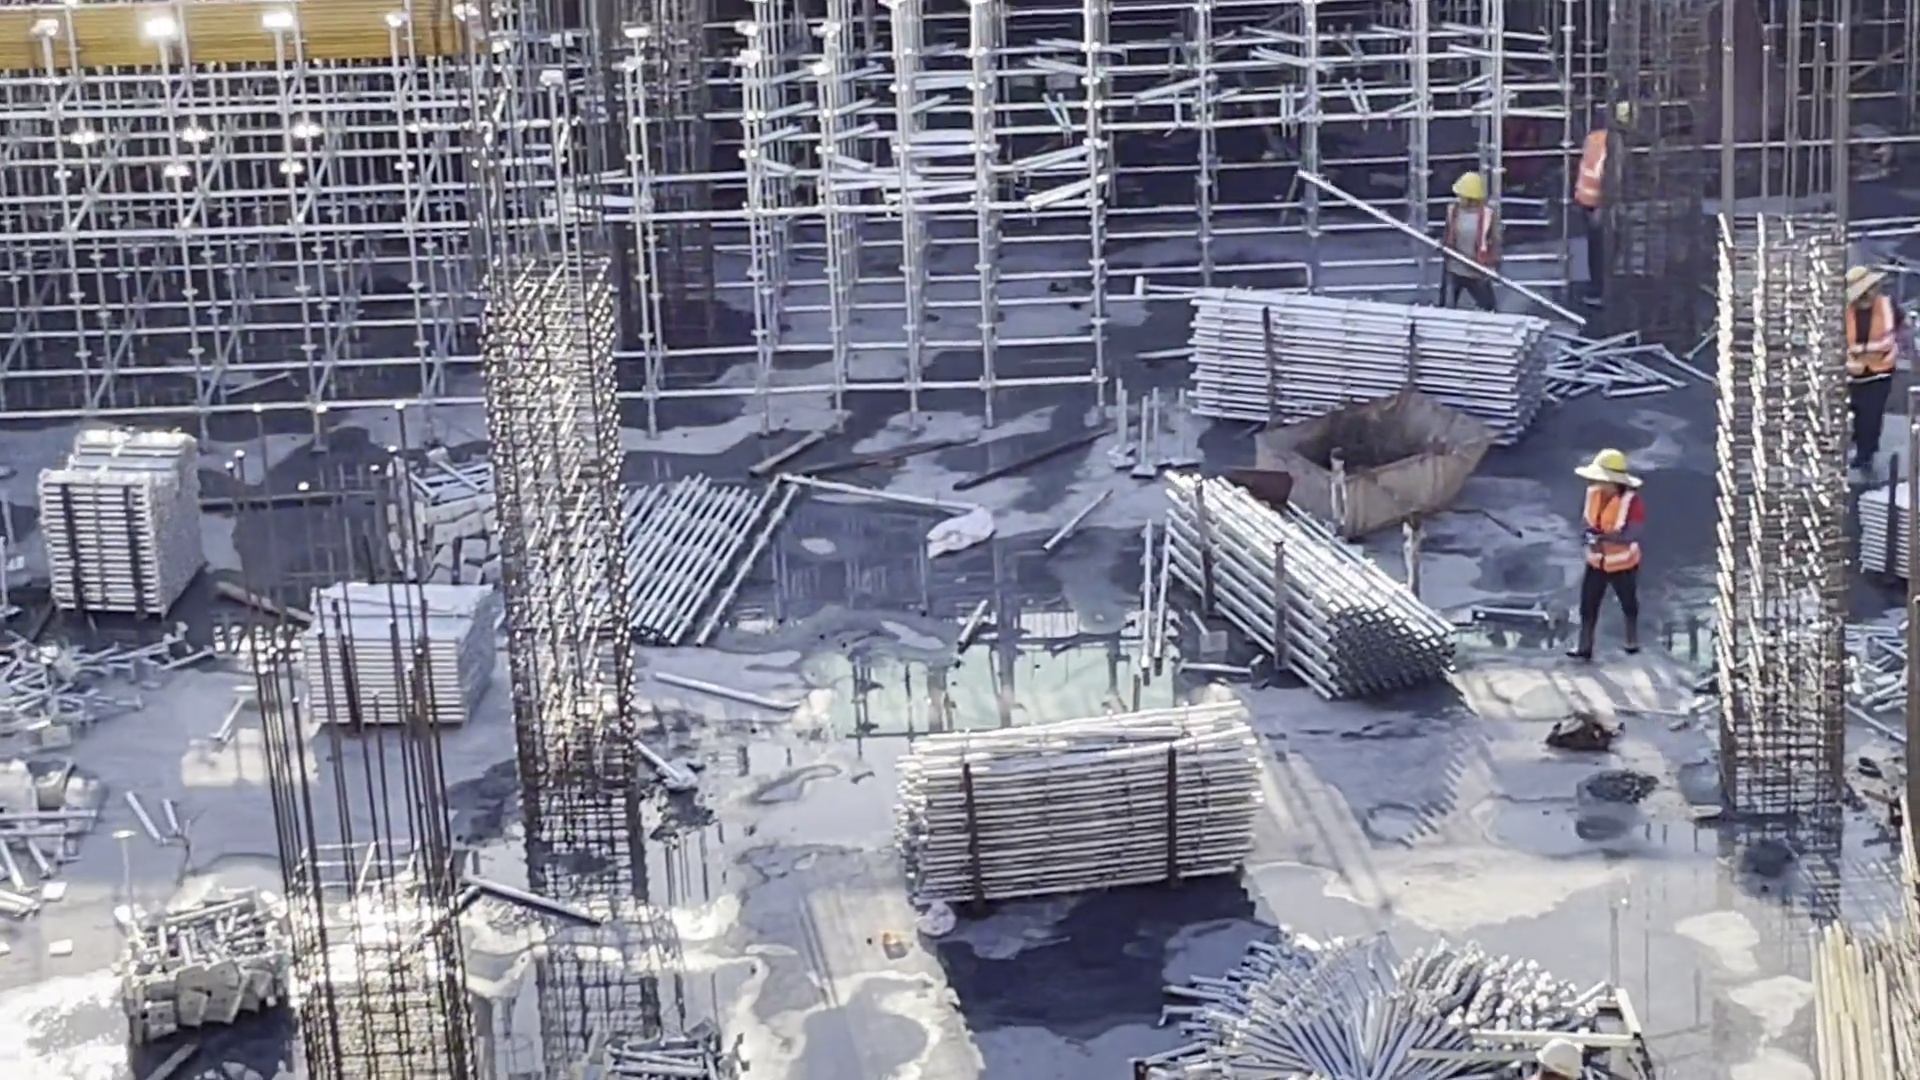helmet: (1578, 453, 1640, 484), (1535, 1042, 1580, 1080), (1847, 260, 1889, 295), (1454, 172, 1484, 200), (1616, 106, 1642, 130)
hopper: (1269, 404, 1479, 526)
person: (1836, 260, 1915, 476), (1573, 446, 1649, 669), (1578, 94, 1645, 308), (1430, 169, 1517, 317)
scaffold: (1142, 935, 1594, 1080), (905, 735, 1257, 896), (1201, 279, 1541, 446), (1196, 483, 1445, 700), (43, 428, 206, 611), (580, 486, 760, 629), (310, 592, 476, 724), (1869, 483, 1920, 601)
vest: (1842, 302, 1900, 379), (1590, 495, 1635, 569), (1581, 131, 1617, 213), (1444, 211, 1494, 269)
